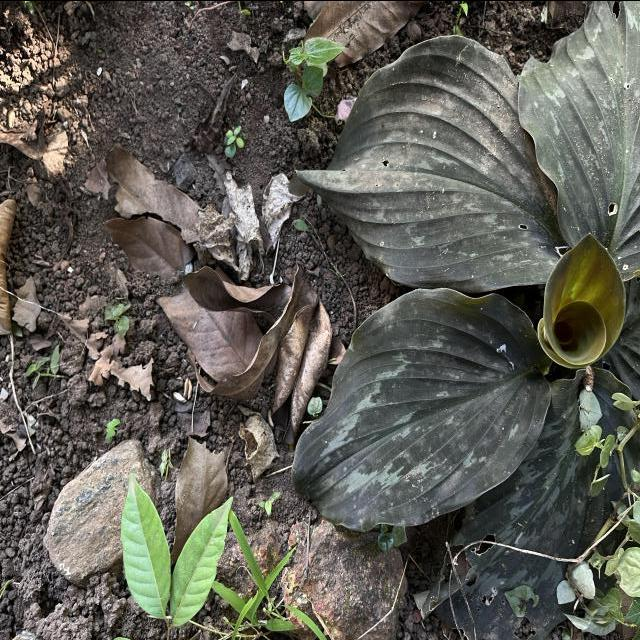Kaempferia galanga linn: (286, 32, 578, 295), (288, 284, 554, 534)
